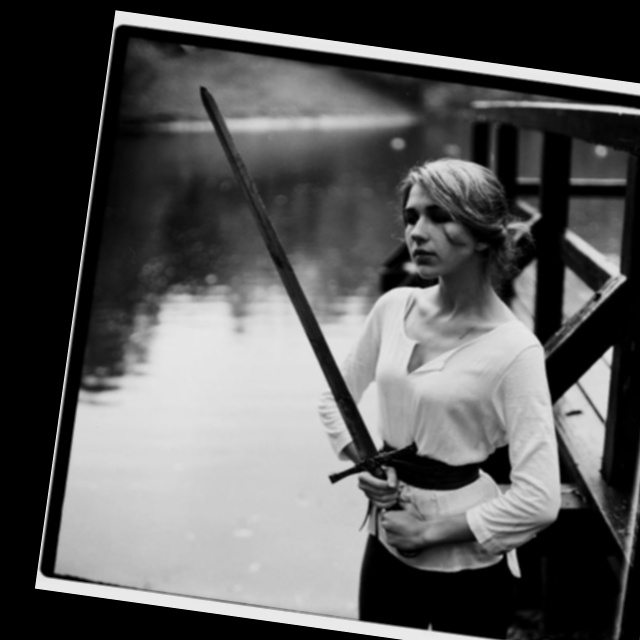Sharp-Object: (136, 75, 463, 545)
